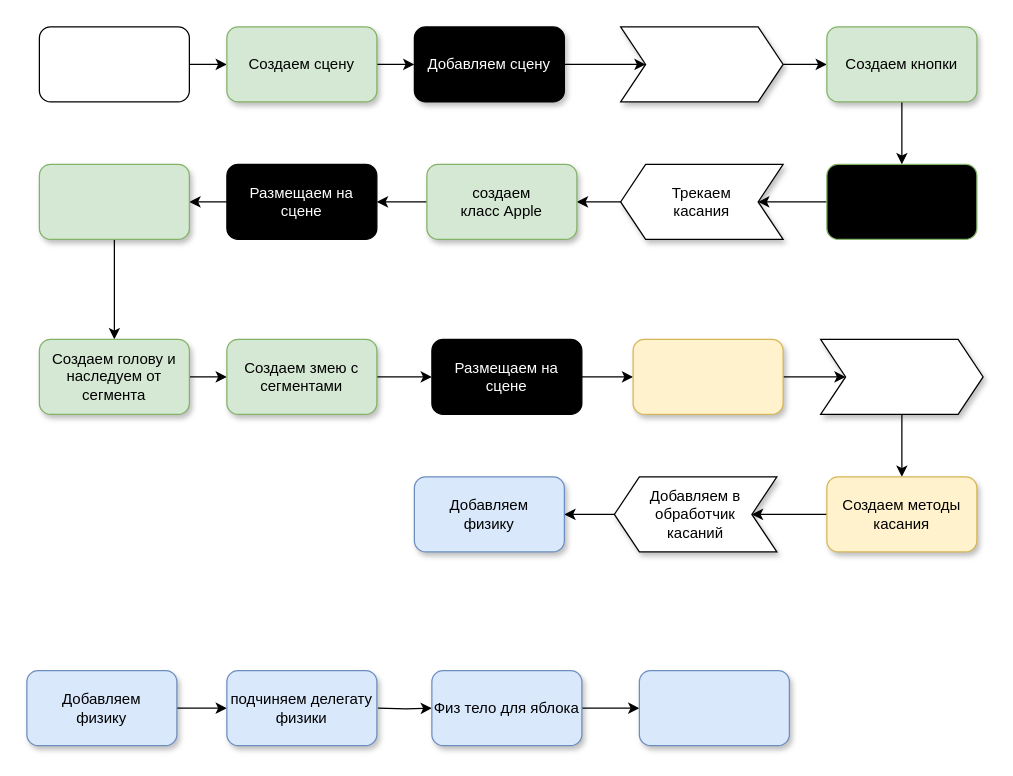
Image size: 1013x776. Some labels were removed from this diagram. Here are the shapes that lost their labels. From the top down, the centre of each, then its label:
At [113,64]: "Убираем GameScene.sks и Actions.sks".
At [702,66]: "Красим сцену".
At [115,203]: "Создаем сегмент змеи".
At [901,201]: "Размещаем кнопки на сцене".
At [709,378]: "метод перемещения".
At [902,378]: "update: move".
At [715,709]: "Физ тело для сегмента".
